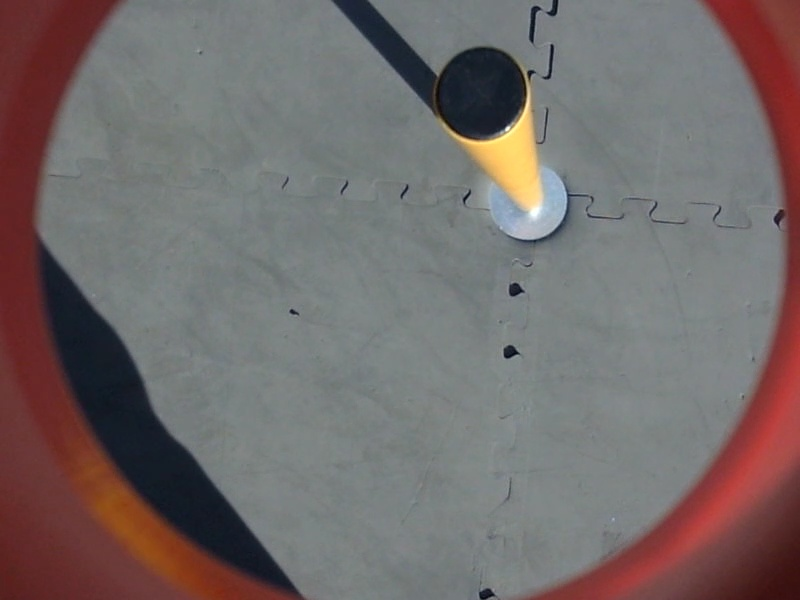tip: (422, 44, 530, 149)
